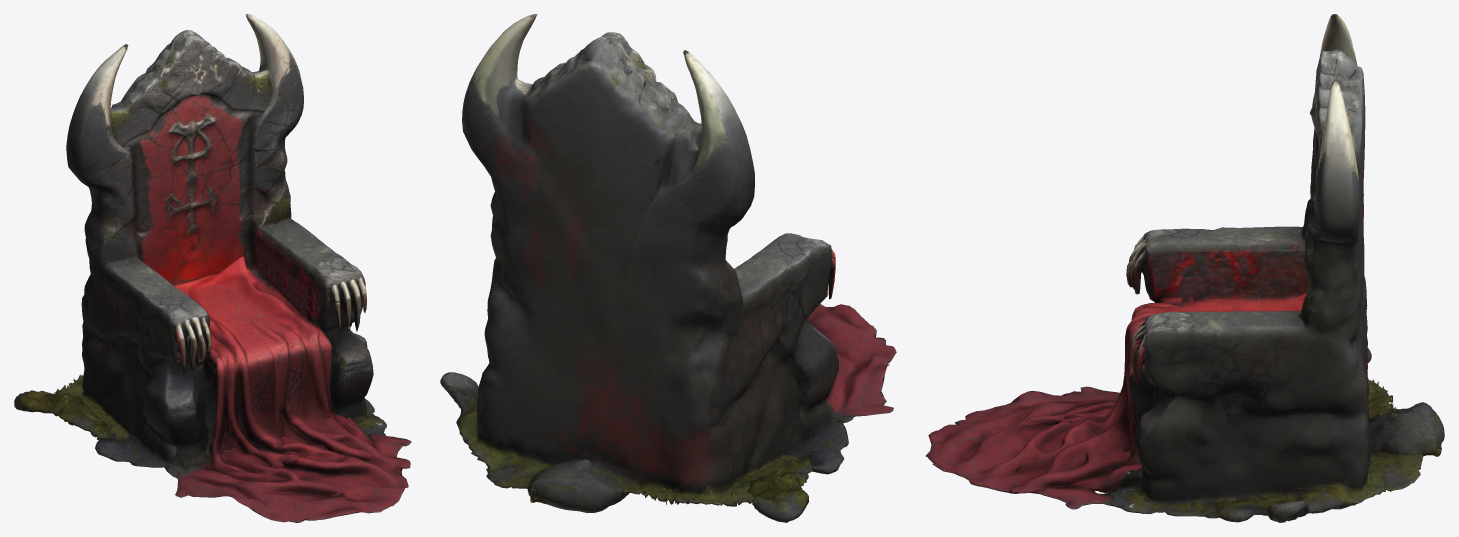
File: 1761660440361-Dark_fantasy_throne_m_0912114721_texture.glb
The picture shows the model from 3 angles, left to right: view 1: azimuth 30°, elevation 25°; view 2: azimuth 150°, elevation 25°; view 3: azimuth 270°, elevation 25°; orthographic projection. The views are drawn at different scales.
Parts seen in each view (by area): view 1: Mesh_0; view 2: Mesh_0; view 3: Mesh_0.
Boxes of the visible parts, <box> form: Mesh_0: <box>14,14,411,522</box>; Mesh_0: <box>440,14,896,522</box>; Mesh_0: <box>925,14,1444,522</box>.
Size of the model in its own units: 0.9179 by 1 by 1.14.
Materials: 1 (1 with a texture image).
